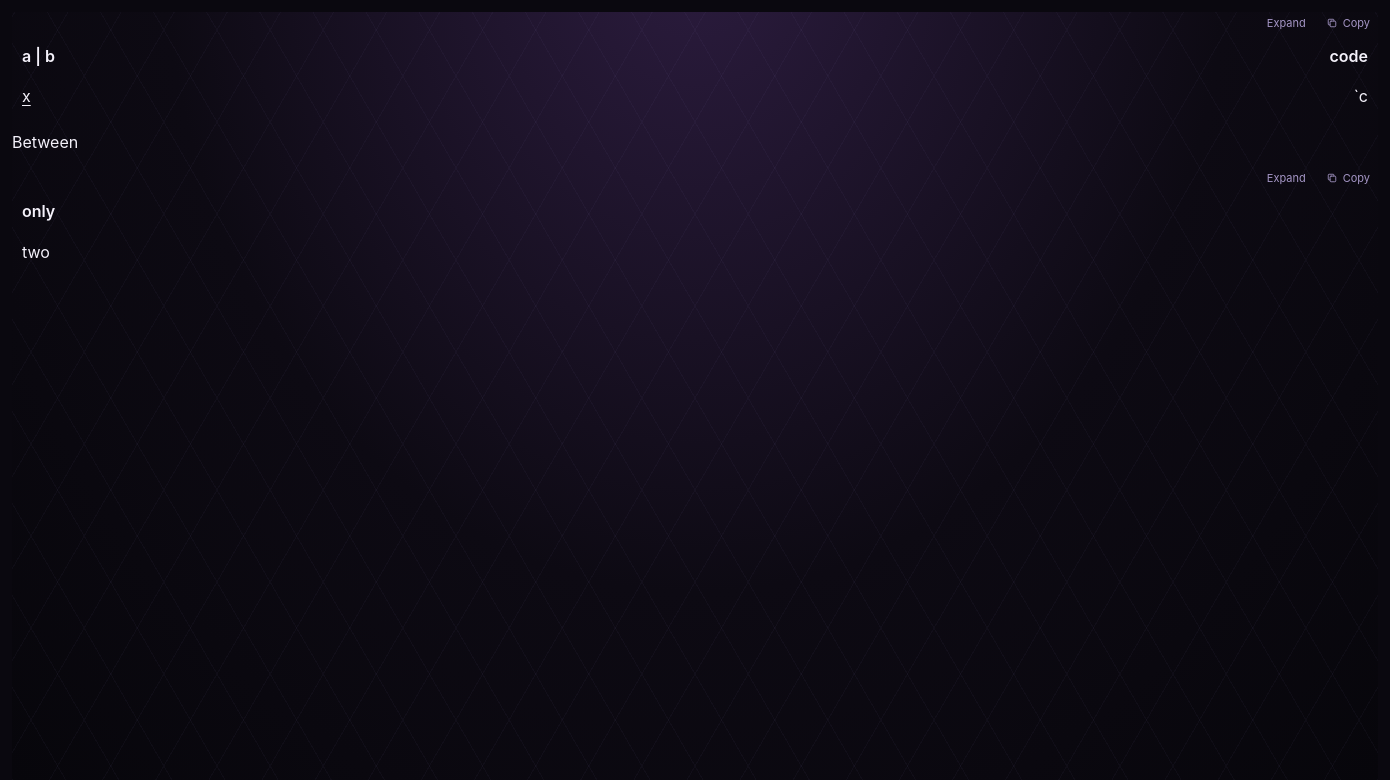
Test: table controls in a message › copies the exact source of the table that was pressed, escapes and links included
The image size is (1390, 780).
Click the button with aria-label "Copy table Markdown" at (1348, 178), box 1318,167 -> 1378,189
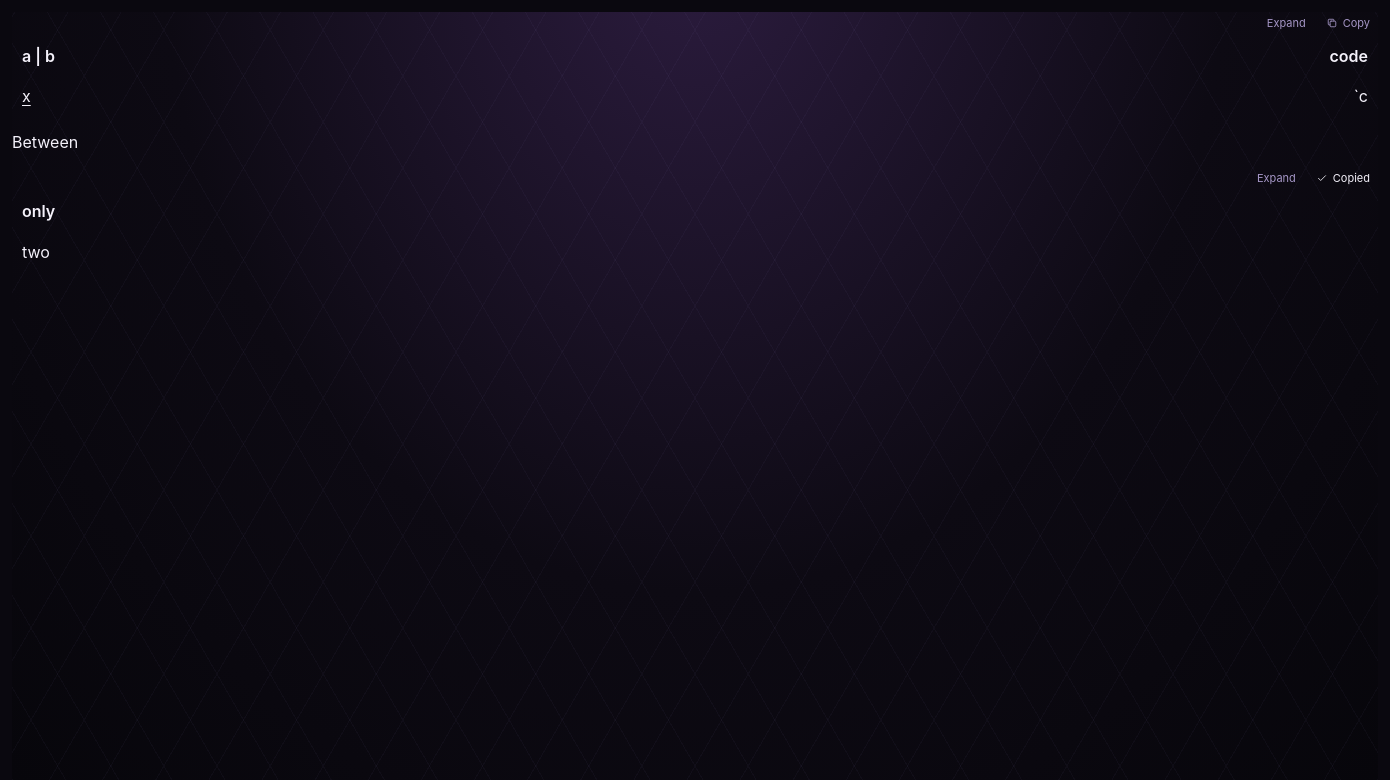
Click the button with aria-label "Copy table Markdown" at (1348, 23), box 1318,12 -> 1378,34
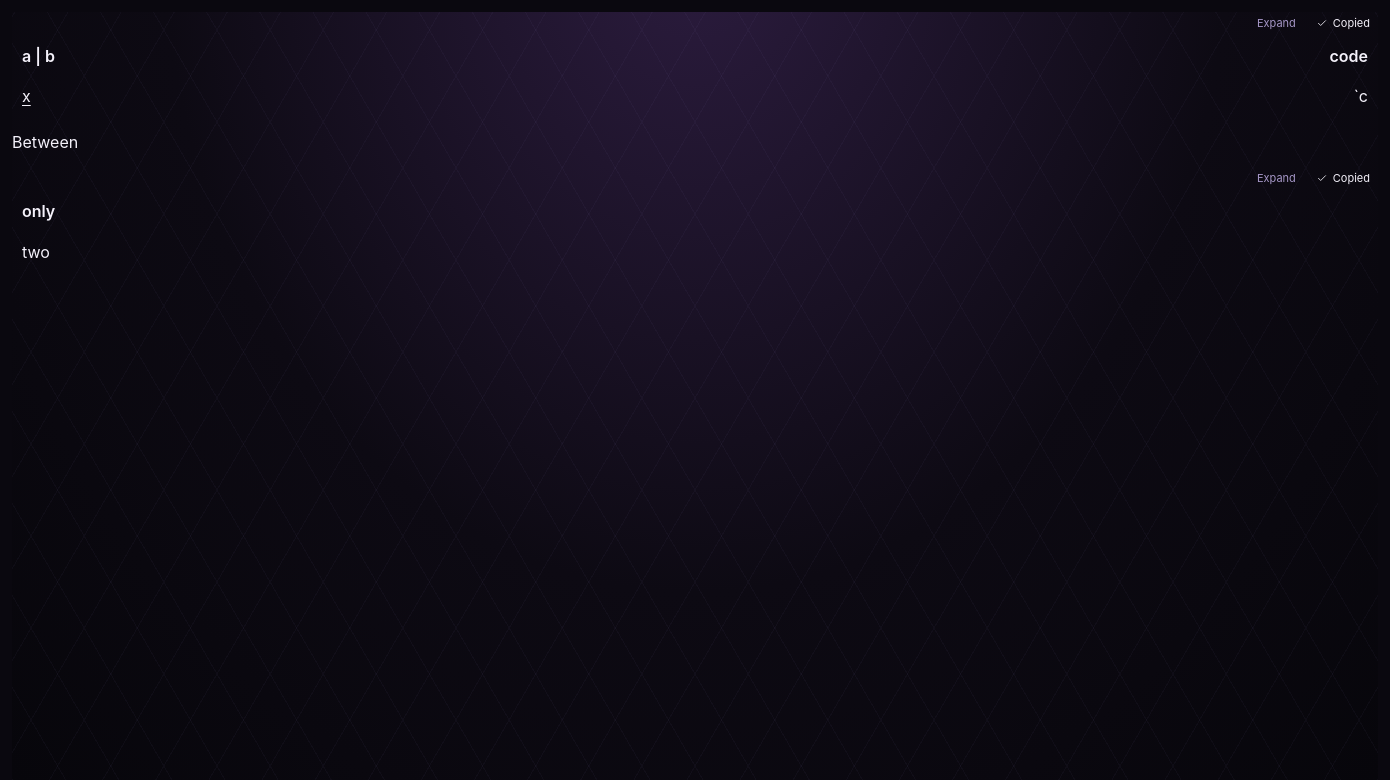
Check: the cell "two" is shown, box 12,232 -> 1378,272
Check: the button with aria-label "Copy table Markdown" reads "Copied", box 1308,12 -> 1378,34
